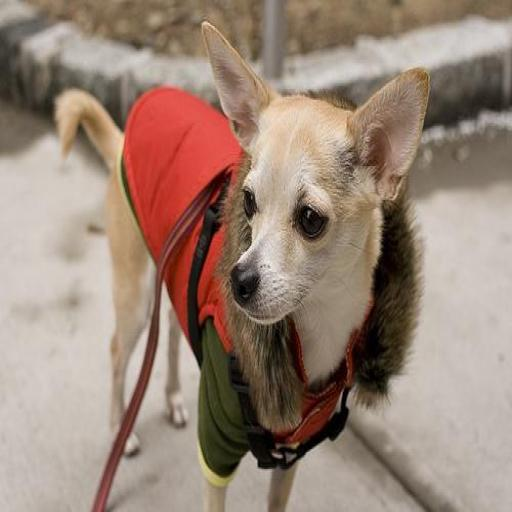dog_face: (195, 26, 422, 309)
